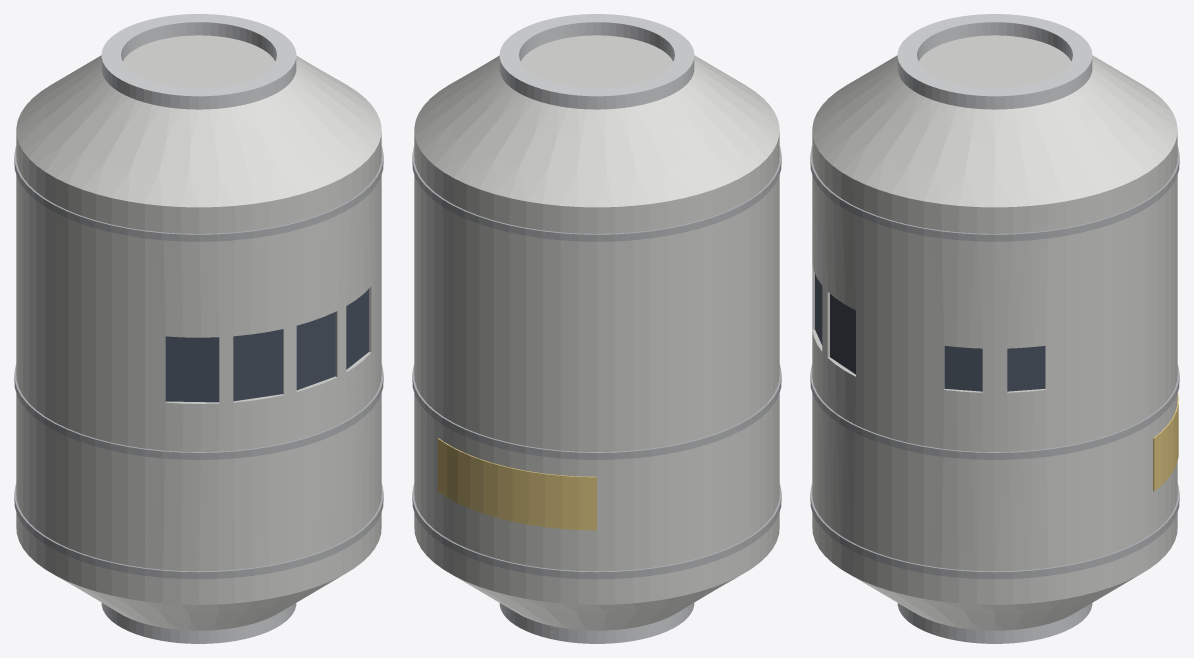
File: cmd08_flight_deck.glb
3 views of the same model, side by side, from view 1: azimuth 30°, elevation 25°; view 2: azimuth 150°, elevation 25°; view 3: azimuth 270°, elevation 25° (orthographic).
Visible parts, largest first — view 1: pressure_hull, berthing_rings, windows, ring_frames; view 2: pressure_hull, berthing_rings, ring_frames, mli_patch; view 3: pressure_hull, berthing_rings, ring_frames, windows, mli_patch.
Boxes of the visible parts, x1,y1,x2,y2 form: pressure_hull: (16, 35, 381, 630); berthing_rings: (101, 14, 296, 643); windows: (165, 289, 368, 402); ring_frames: (14, 146, 383, 579); pressure_hull: (414, 35, 779, 630); berthing_rings: (499, 14, 694, 643); ring_frames: (412, 146, 781, 579); mli_patch: (437, 438, 596, 530); pressure_hull: (812, 35, 1177, 630); berthing_rings: (897, 14, 1092, 643); ring_frames: (810, 146, 1179, 579); windows: (815, 274, 1045, 391); mli_patch: (1153, 392, 1178, 491).
Size of the model in its own units: 3.79 by 6.2 by 3.79.
